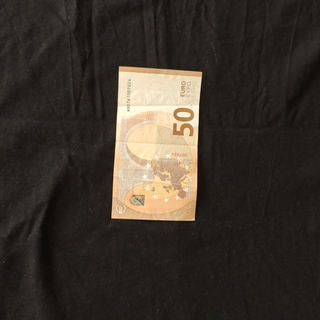50EUROBack: (109, 64, 203, 222)
